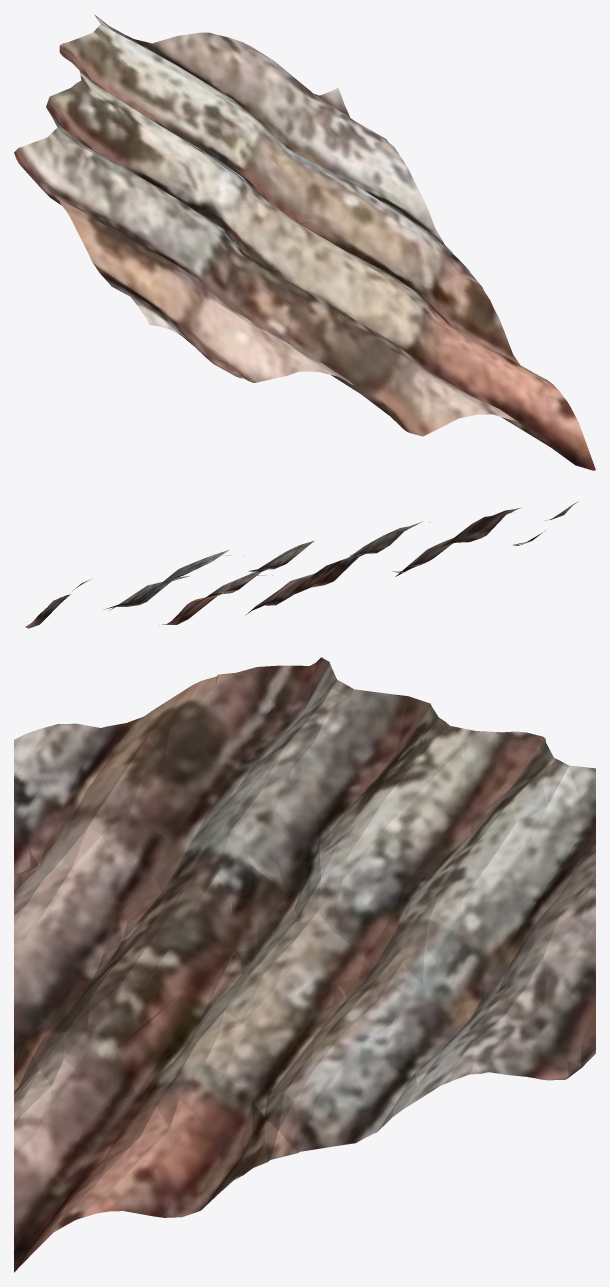
The picture shows the model from 3 angles, top to bottom: view 1: azimuth 30°, elevation 25°; view 2: azimuth 150°, elevation 25°; view 3: azimuth 270°, elevation 25°; orthographic projection. The views are drawn at different scales.
Size of the model in its own units: 0.8374 by 0.5867 by 0.8374.
Materials: 3 (3 with a texture image).
